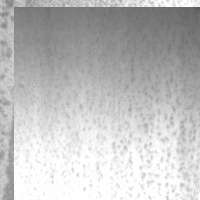pitted_surface: (14, 7, 200, 200), (35, 1, 200, 200)
